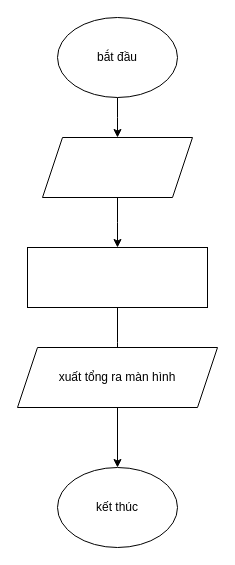
Image size: 235x565. Some labels were removed from this diagram. The shapes that lost their labels are listed below. From the top down, each one's centre as x and y in pixels, then its label:
At point (117, 167): "nhập 2 số a,b".
At point (117, 277): "Tính tổng: sum = a + b".
